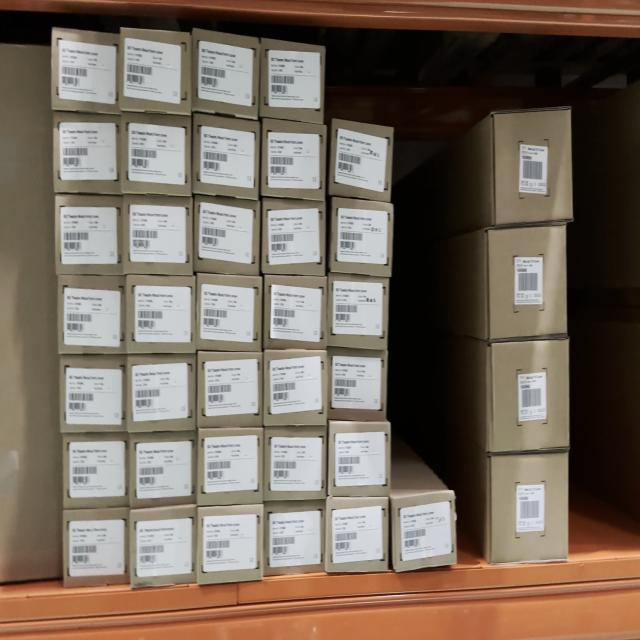box: (490, 339, 570, 456), (488, 227, 567, 341), (490, 452, 567, 567), (496, 115, 572, 223), (120, 29, 189, 115), (195, 31, 258, 117), (126, 276, 195, 354), (198, 349, 264, 430), (128, 357, 196, 434), (197, 118, 260, 200), (125, 112, 191, 190), (124, 198, 193, 272), (130, 508, 197, 584), (61, 278, 126, 354), (57, 196, 122, 271), (56, 118, 120, 193), (198, 507, 264, 579), (63, 512, 128, 585), (200, 275, 262, 351), (197, 198, 263, 269), (393, 494, 458, 566), (266, 353, 328, 428), (266, 277, 330, 349), (200, 430, 264, 502), (62, 362, 126, 434), (54, 38, 119, 107), (130, 434, 193, 504), (263, 45, 325, 116), (269, 428, 328, 500), (265, 202, 324, 274), (263, 126, 325, 194), (267, 502, 325, 574), (331, 275, 388, 347), (65, 439, 126, 506), (333, 127, 391, 196), (332, 424, 388, 495), (330, 504, 390, 570), (332, 205, 392, 271), (331, 351, 386, 419)
